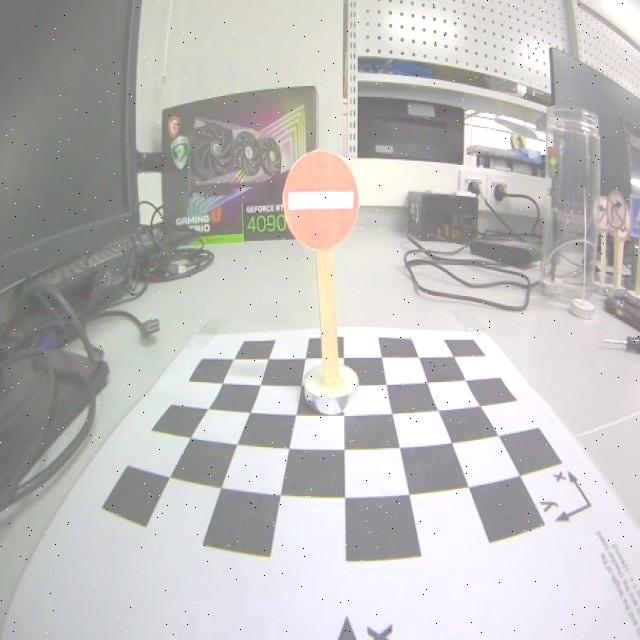Dilarang Masuk: (281, 150, 358, 252)
